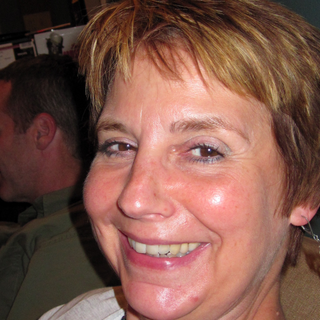eye: (173, 134, 233, 169), (92, 138, 150, 164)
